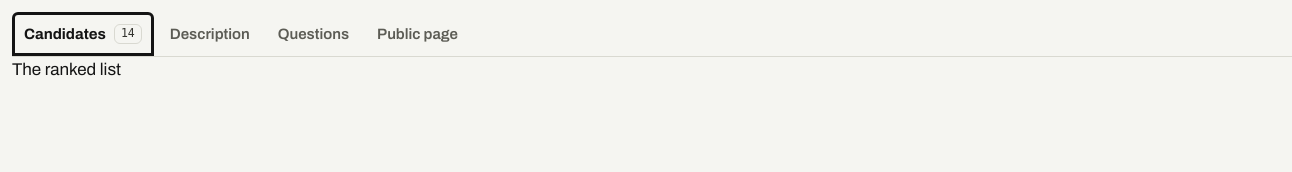
Test: Tabs › waits for Enter, Space or a click with manual activation
Press ArrowRight in the tab "Candidates 14", box [12, 12, 154, 56]
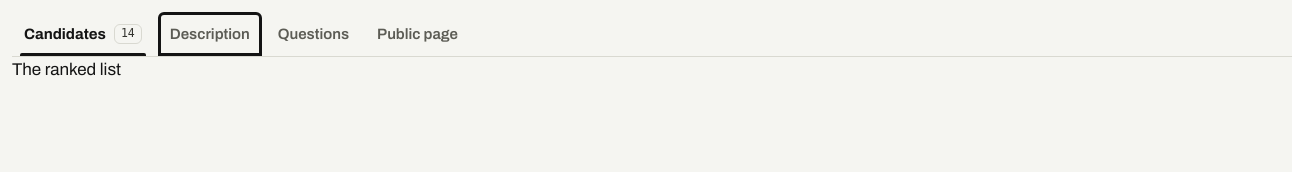
Expected: the panel reads "The ranked list", [12, 60, 121, 79]
Click the tab "Description" at (210, 34), box [158, 12, 262, 56]
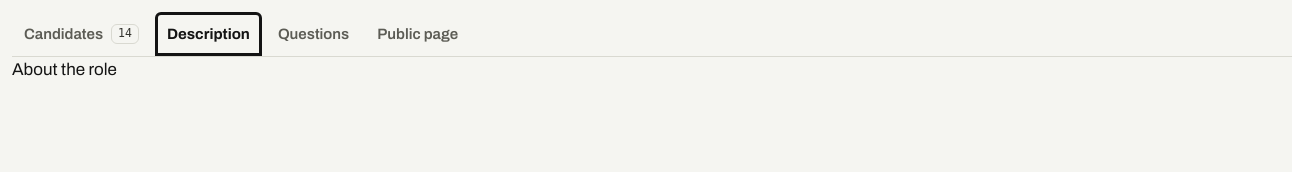
Now the panel reads "About the role", box [12, 60, 117, 79]
